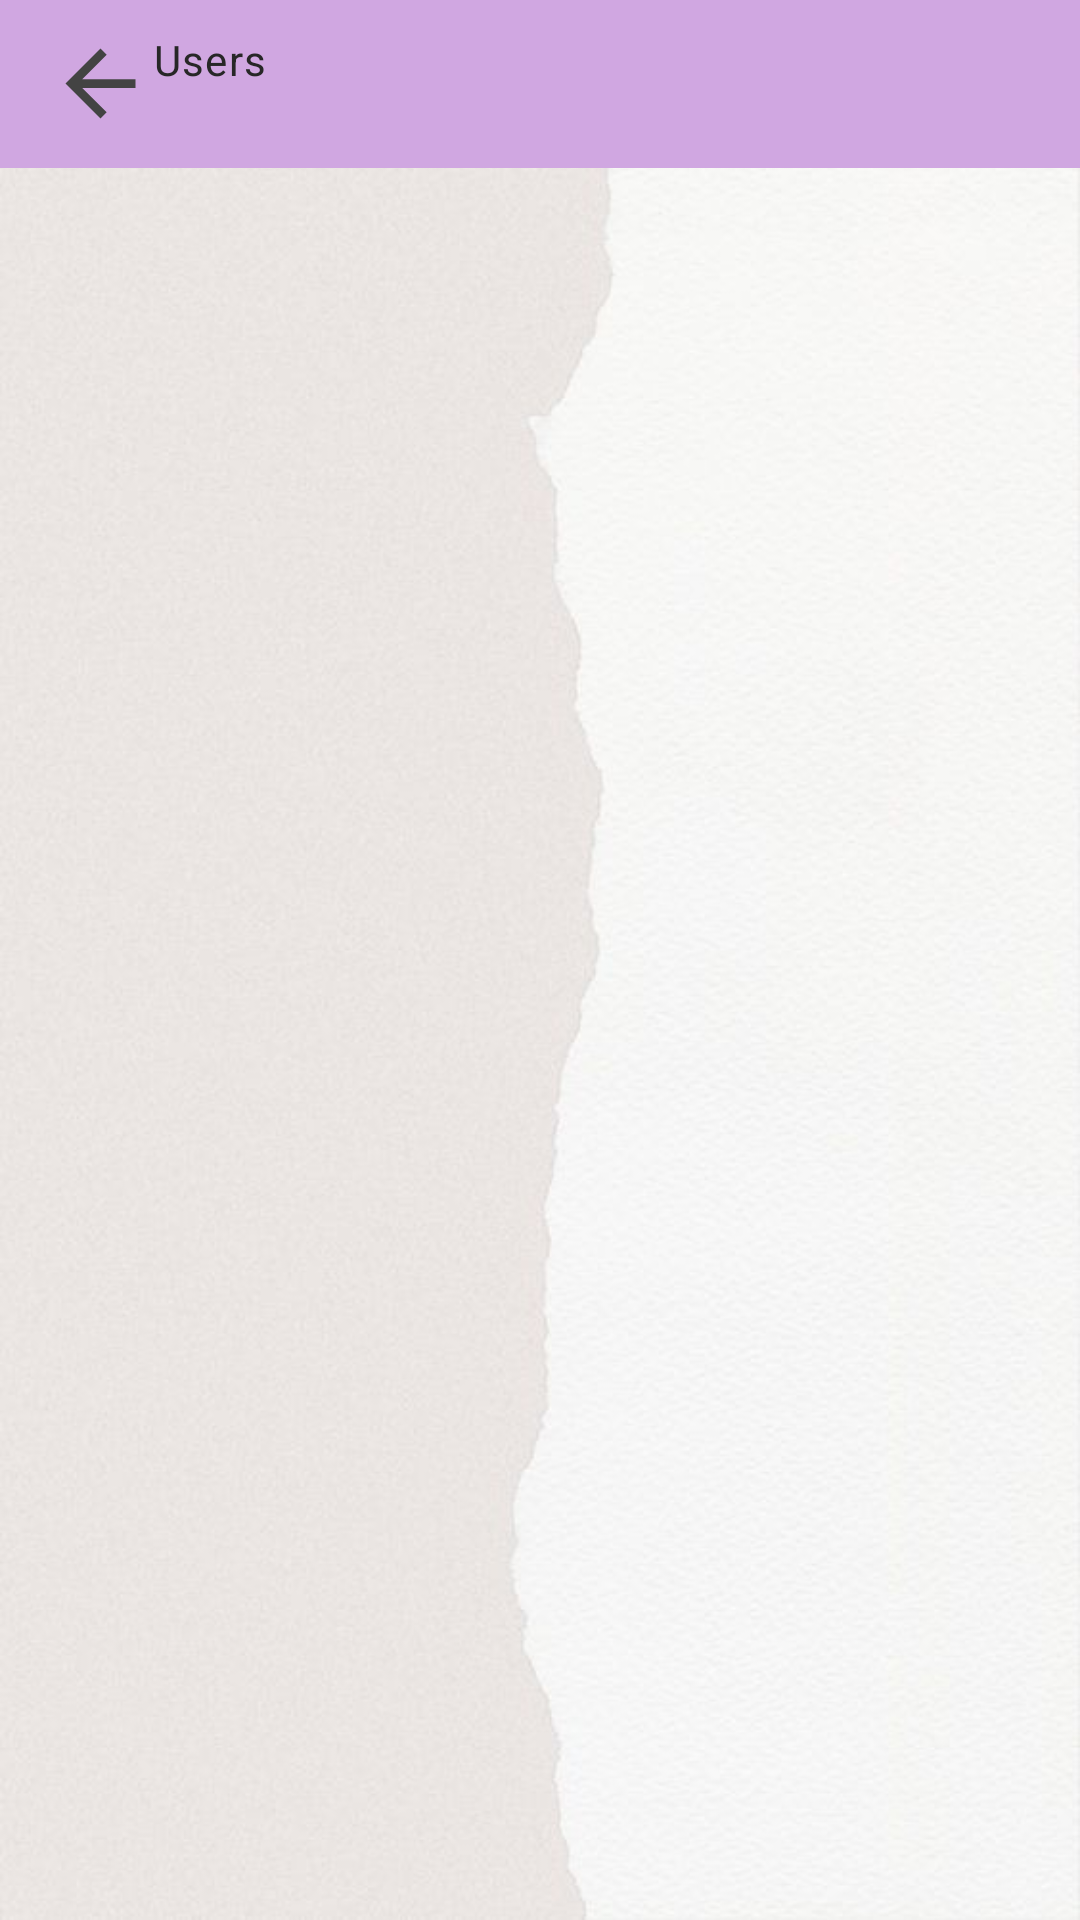

Locate icon controls on the screen. Image size 1080 × 1920, boxes as (x1, y1, x2, y2).
back: (65, 48, 136, 119)
